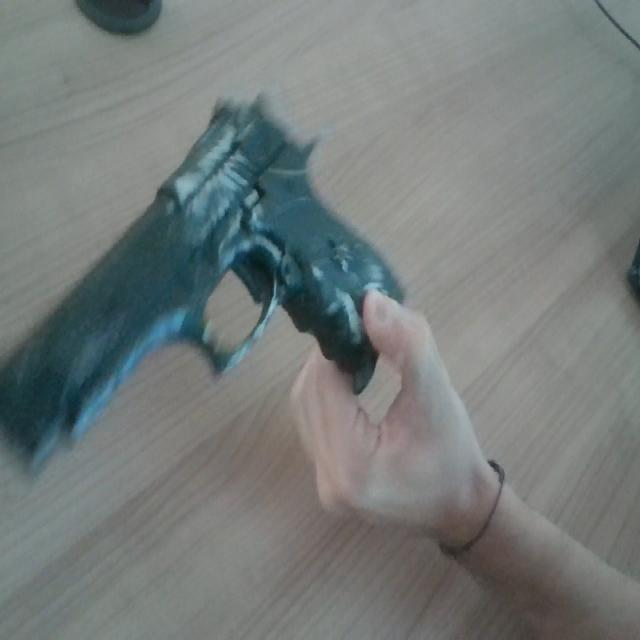handgun: (0, 80, 474, 572)
